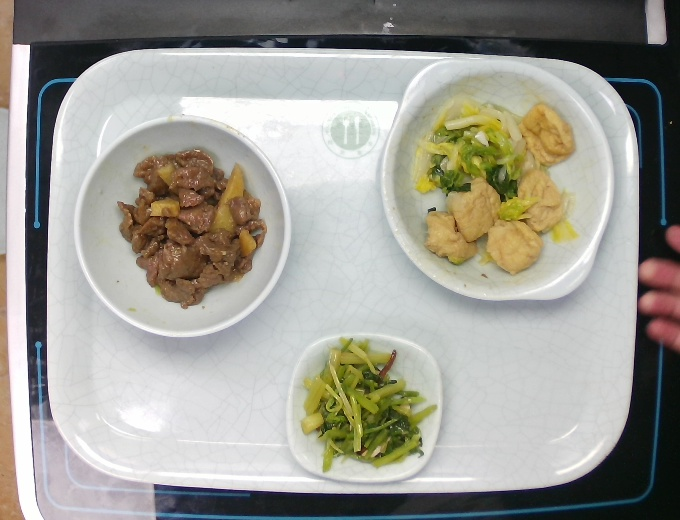JYsf-Fan_Wan: (71, 113, 293, 340)
JYsf-Shuang_Er_Wan: (378, 55, 618, 305)
JYsf-Si_Fang_Die: (284, 332, 444, 485)
